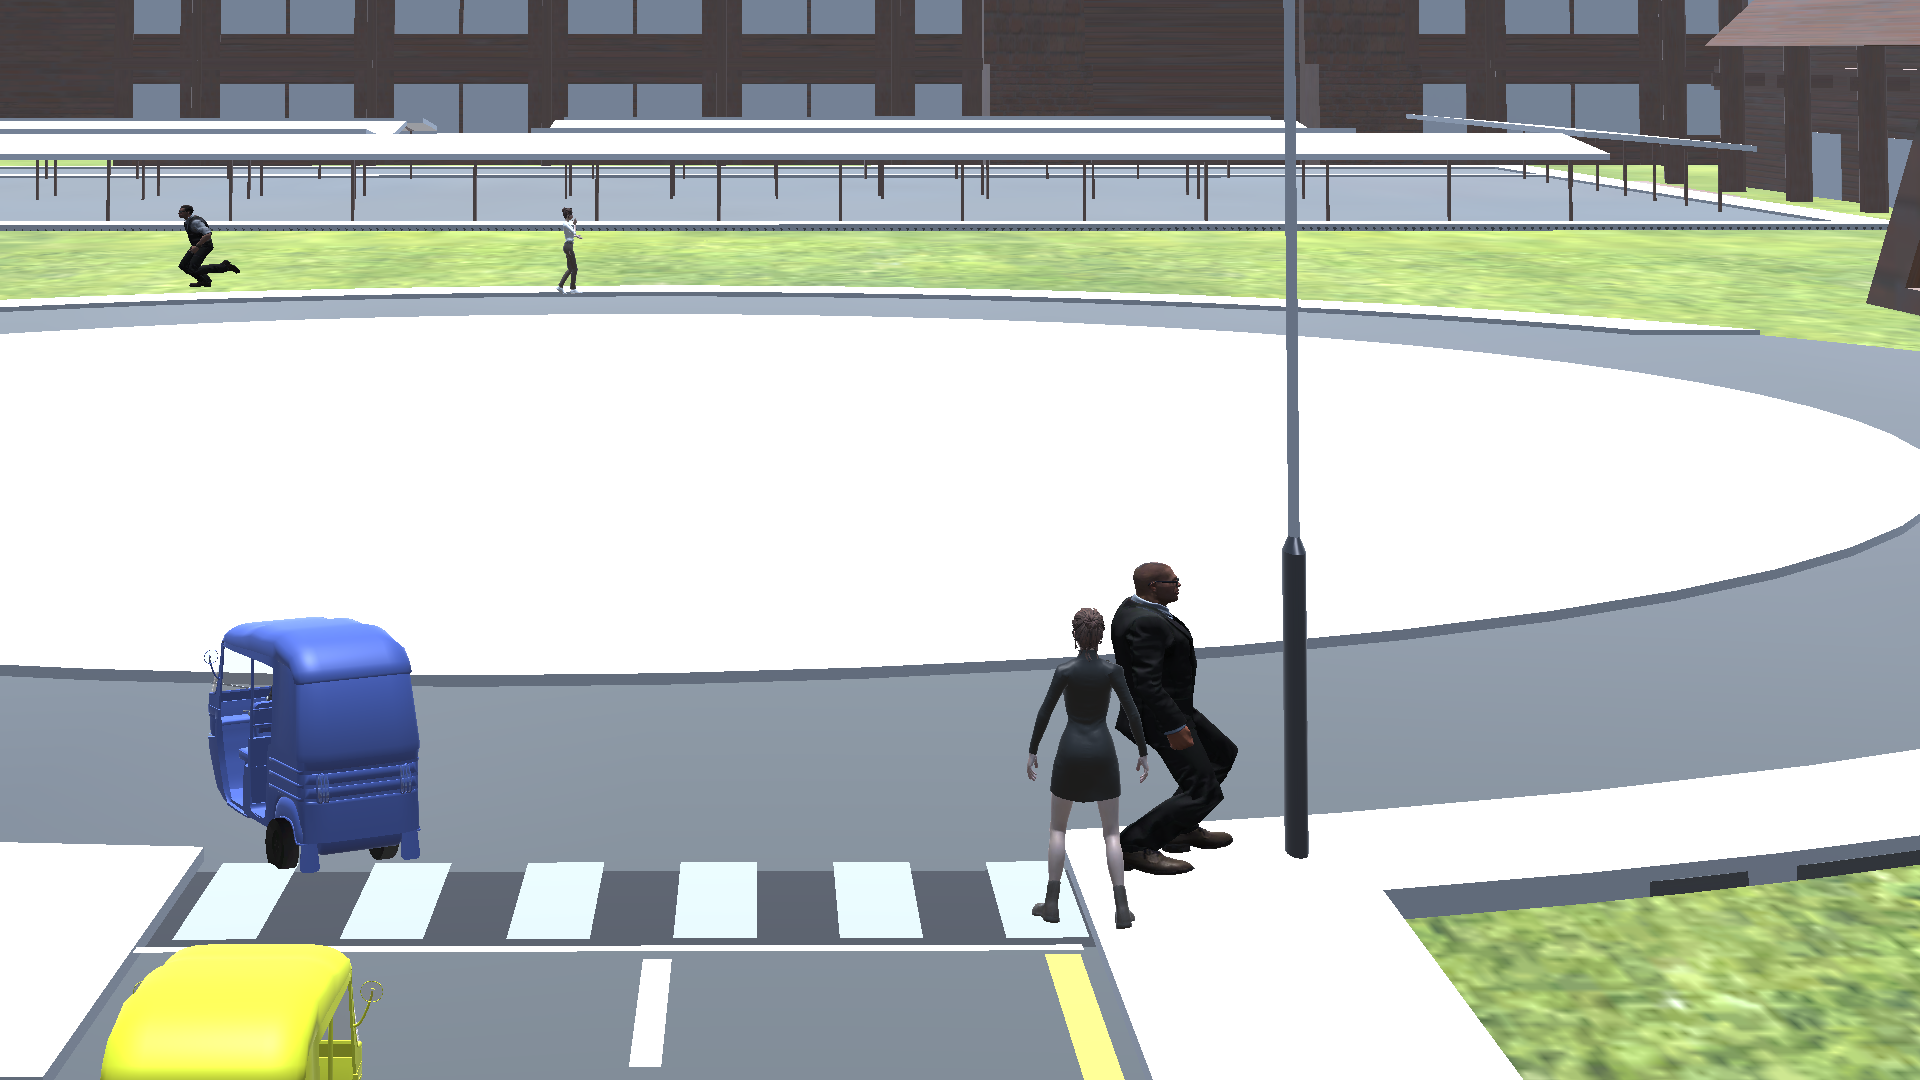pedestrian: (1115, 555, 1246, 875), (1022, 598, 1139, 935), (167, 203, 240, 294), (551, 203, 591, 297)
